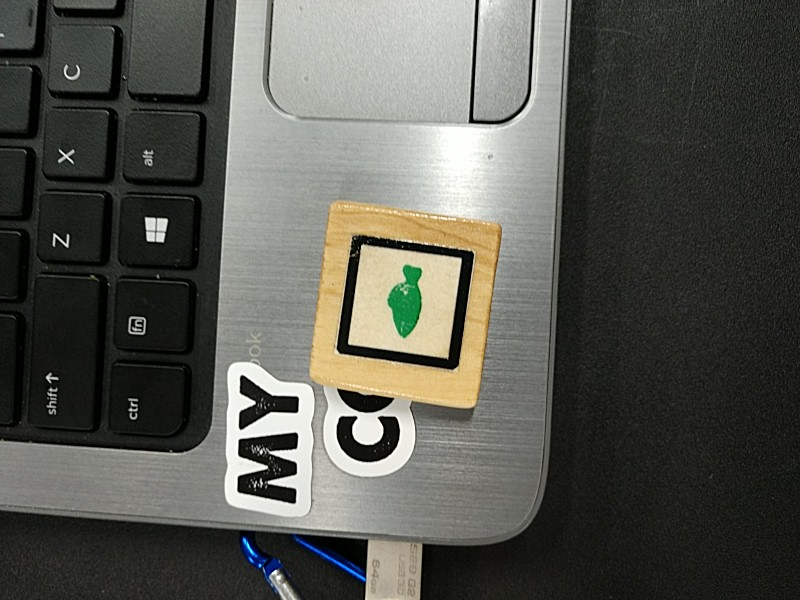Fish Tile: (331, 232, 475, 369)
